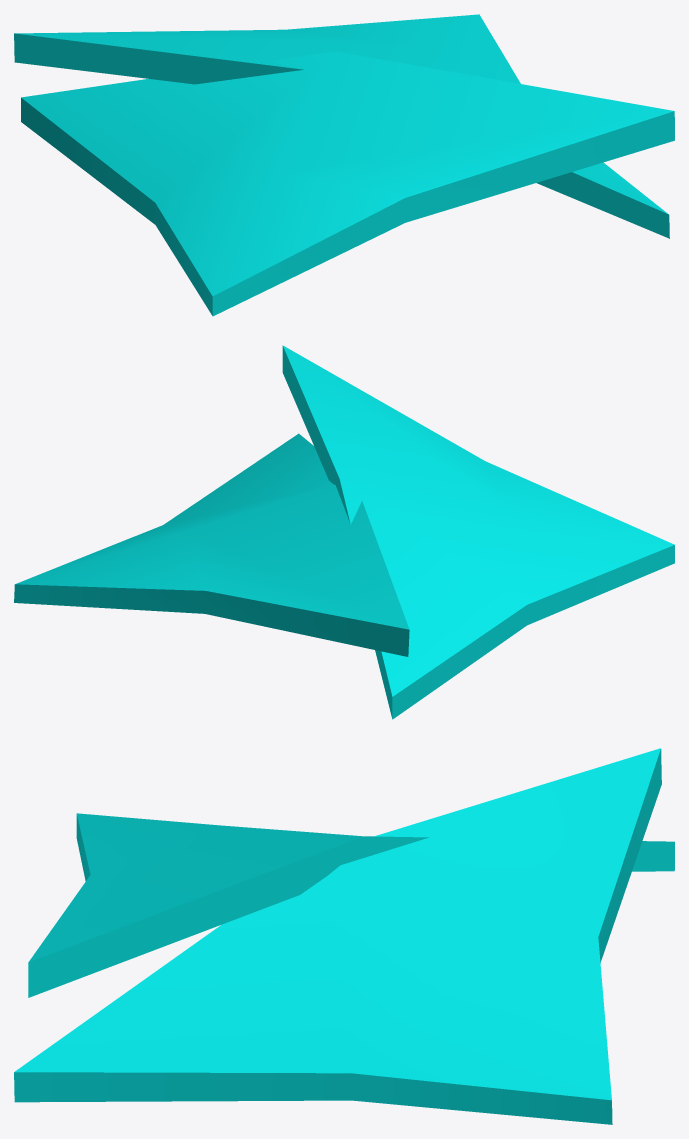
The model's file is SM_Prop_Canopy_04_Collision.fbx.
3 views of the same model, one above another, from view 1: azimuth 30°, elevation 25°; view 2: azimuth 150°, elevation 25°; view 3: azimuth 270°, elevation 25° (orthographic). The views are drawn at different scales.
Parts seen in each view (by area): view 1: SM_Prop_Canopy_04_Collision; view 2: SM_Prop_Canopy_04_Collision; view 3: SM_Prop_Canopy_04_Collision.
Part boxes in pixels (x1,y1,x2,y2): SM_Prop_Canopy_04_Collision: [14, 14, 674, 316]; SM_Prop_Canopy_04_Collision: [14, 345, 674, 719]; SM_Prop_Canopy_04_Collision: [14, 748, 674, 1124].
Size of the model in its own units: 770 by 192 by 746.
